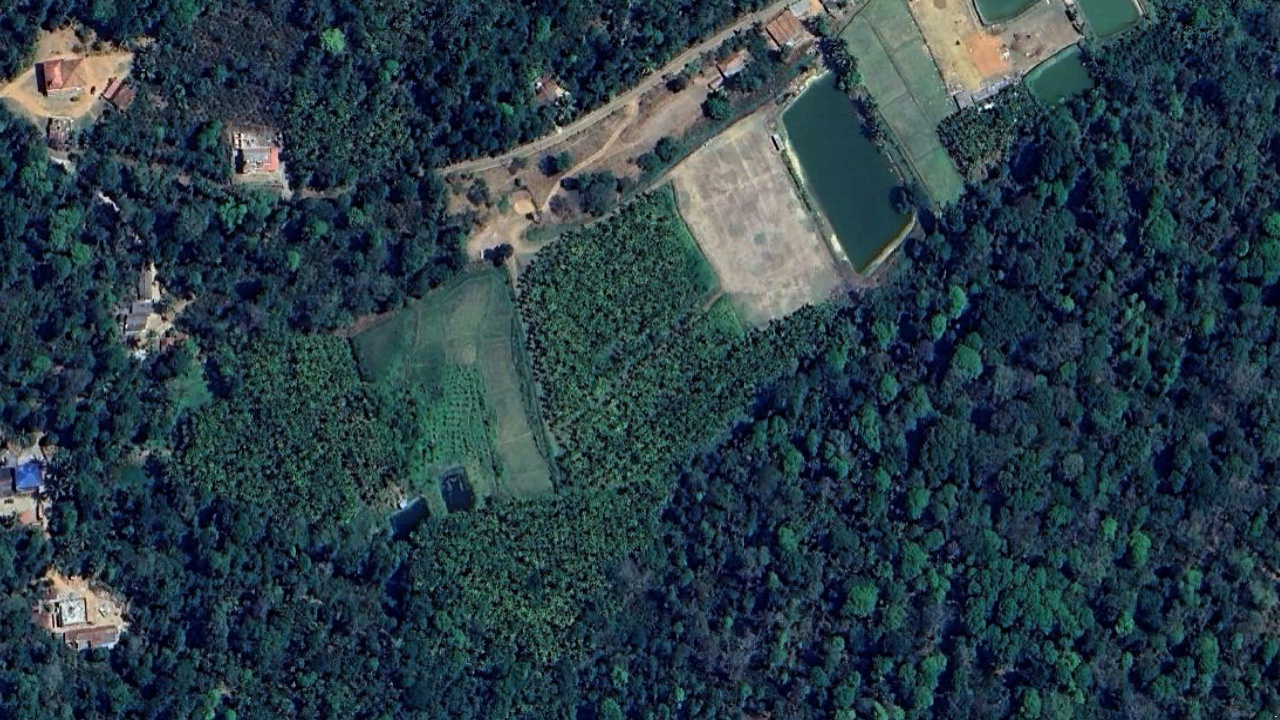arecanut: (500, 188, 757, 474), (167, 327, 420, 528), (424, 484, 666, 665), (941, 83, 1037, 167)
